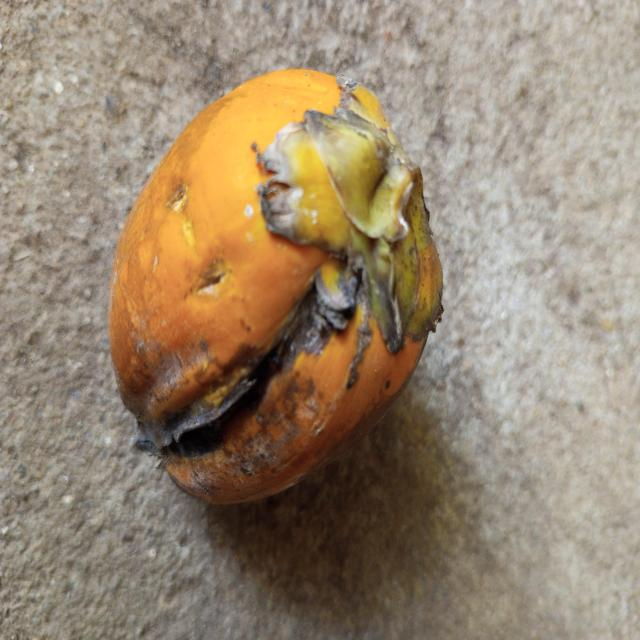damaged: (109, 69, 443, 503)
